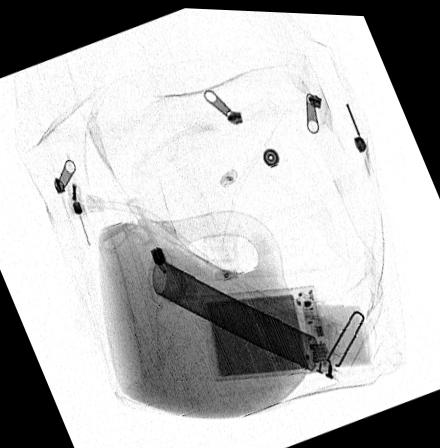Powerbank: (198, 282, 333, 381)
